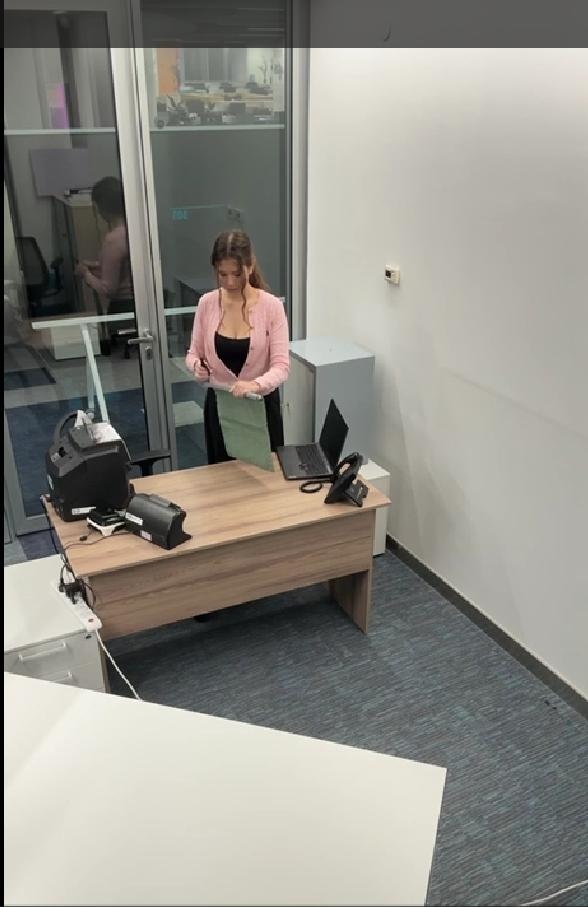cash-in-transit bag: (210, 370, 273, 475)
counter: (42, 412, 147, 520)
key_in: (274, 386, 306, 430)
uv_lamp: (118, 490, 203, 559)
